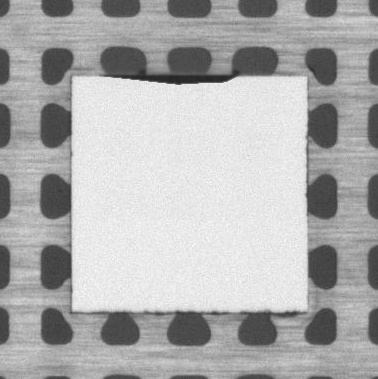DIE_BROKEN: (99, 71, 242, 86)
